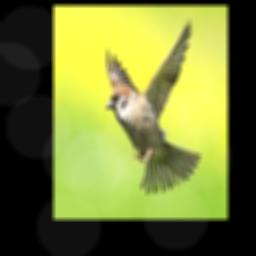Sparrow: (106, 16, 201, 194)
